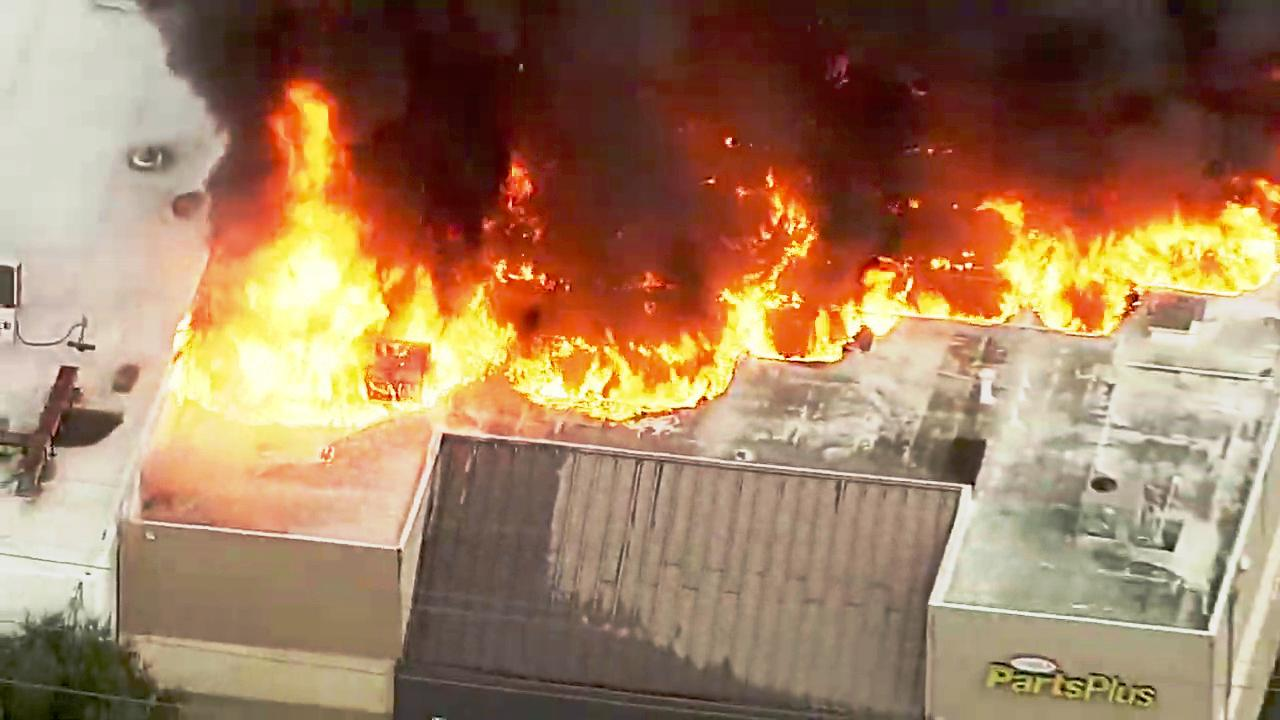fire: (151, 89, 409, 423), (975, 179, 1277, 334), (695, 169, 839, 360)
